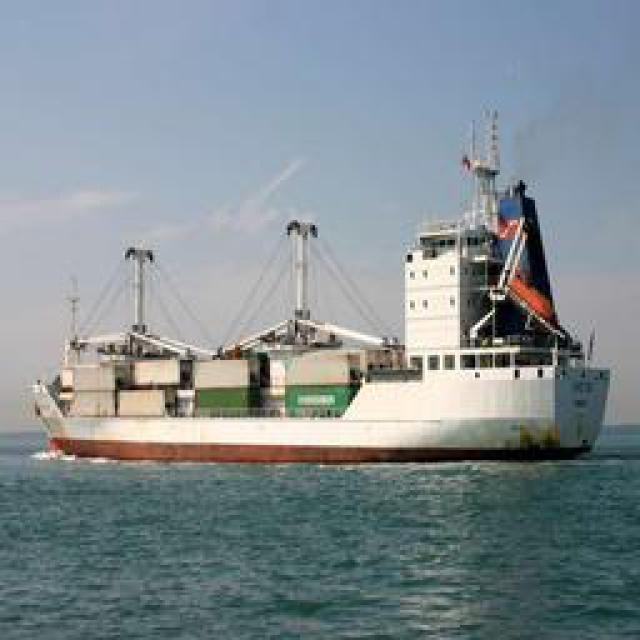Ship: (26, 116, 611, 456)
